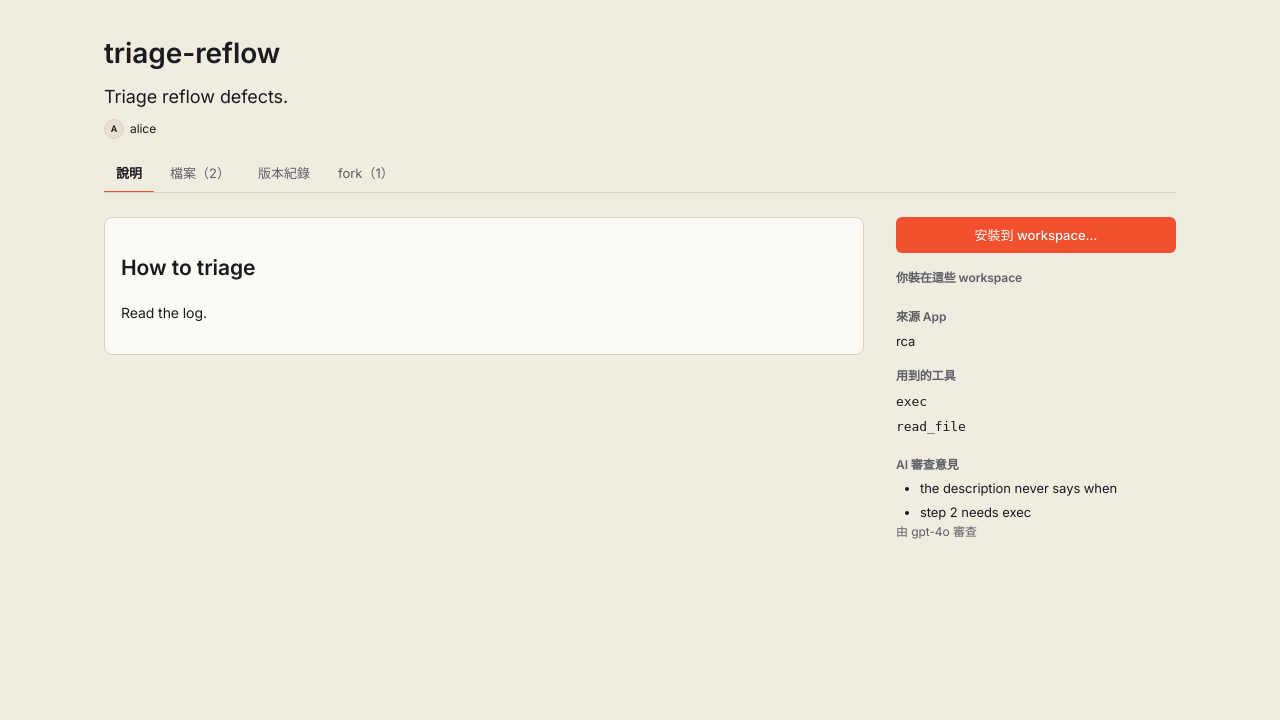
Test case: SkillHubEntryPage layout (plan-skill-hub-ux-redo D3, D5, D6, D16) › leaves one skill's notice and state behind when it opens another
This screenshot has width=1280, height=720.
Click the button "安裝到 workspace…" at (1036, 235), box [896,217,1176,253]
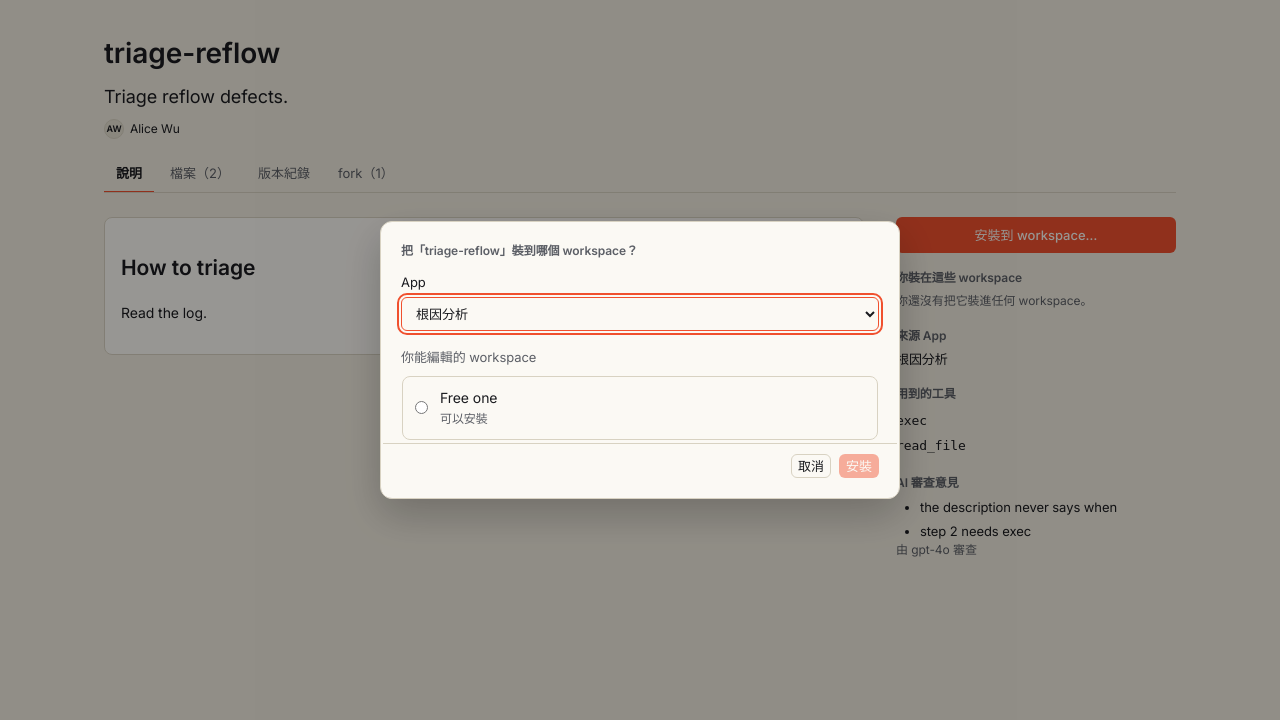
Expected: the radio button labelled "Free one 可以安裝" is enabled
Click the radio button labelled "Free one 可以安裝" at (422, 408), box [415,401,428,414]
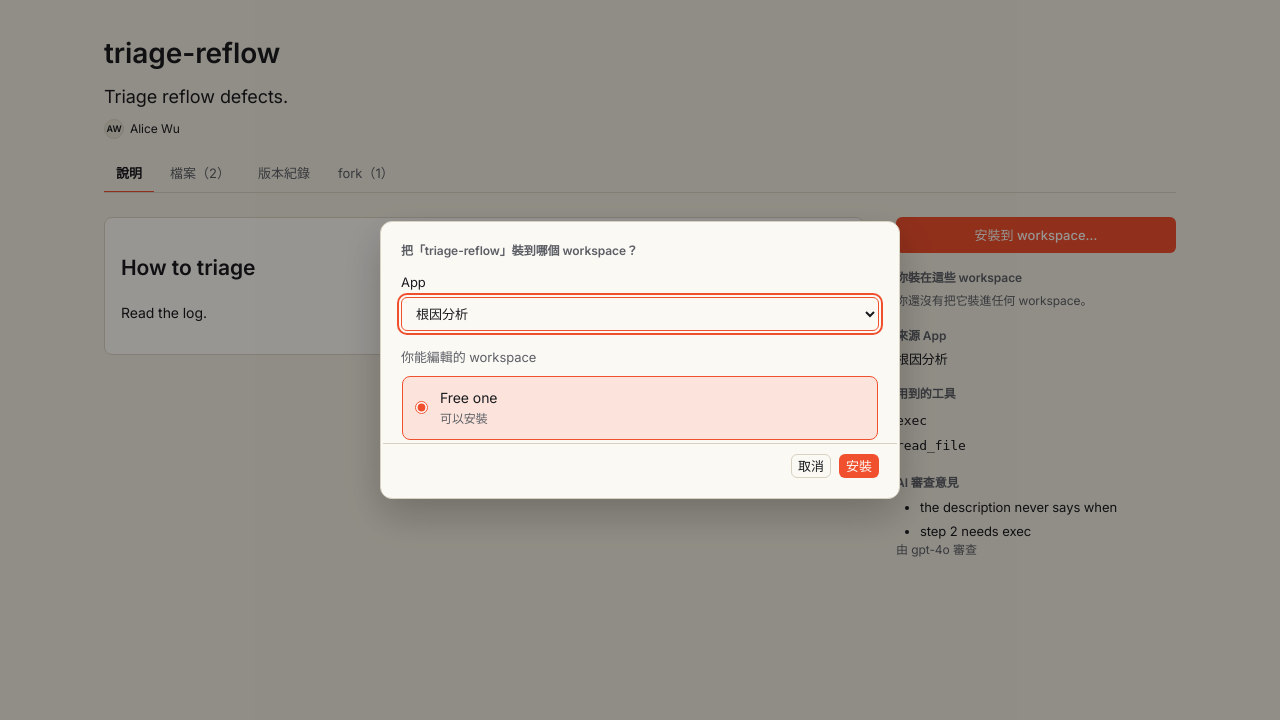
Click the button "安裝" at (859, 466), box [839,454,879,478]
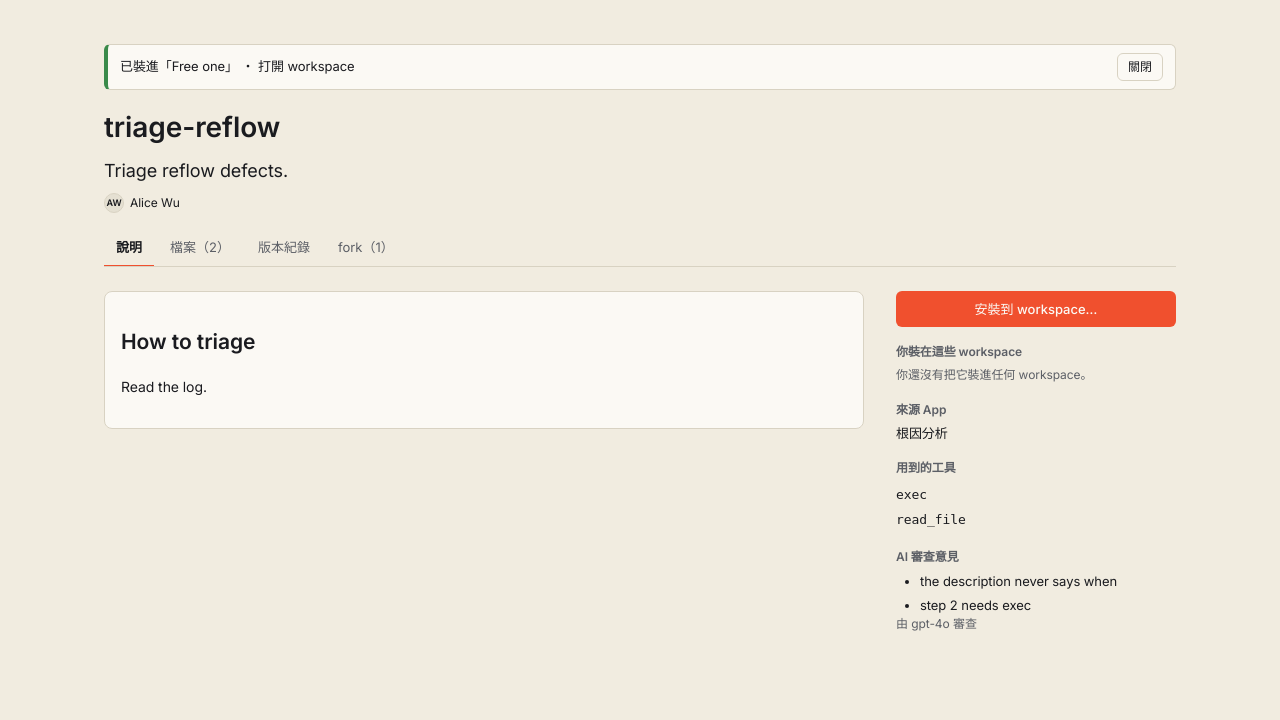
Expected: the message "已裝進「Free one」 ・ 打開 workspace 關閉" is shown, [104,44,1176,90]
Click the tab "fork（1）" at (366, 248), box [326,229,406,267]
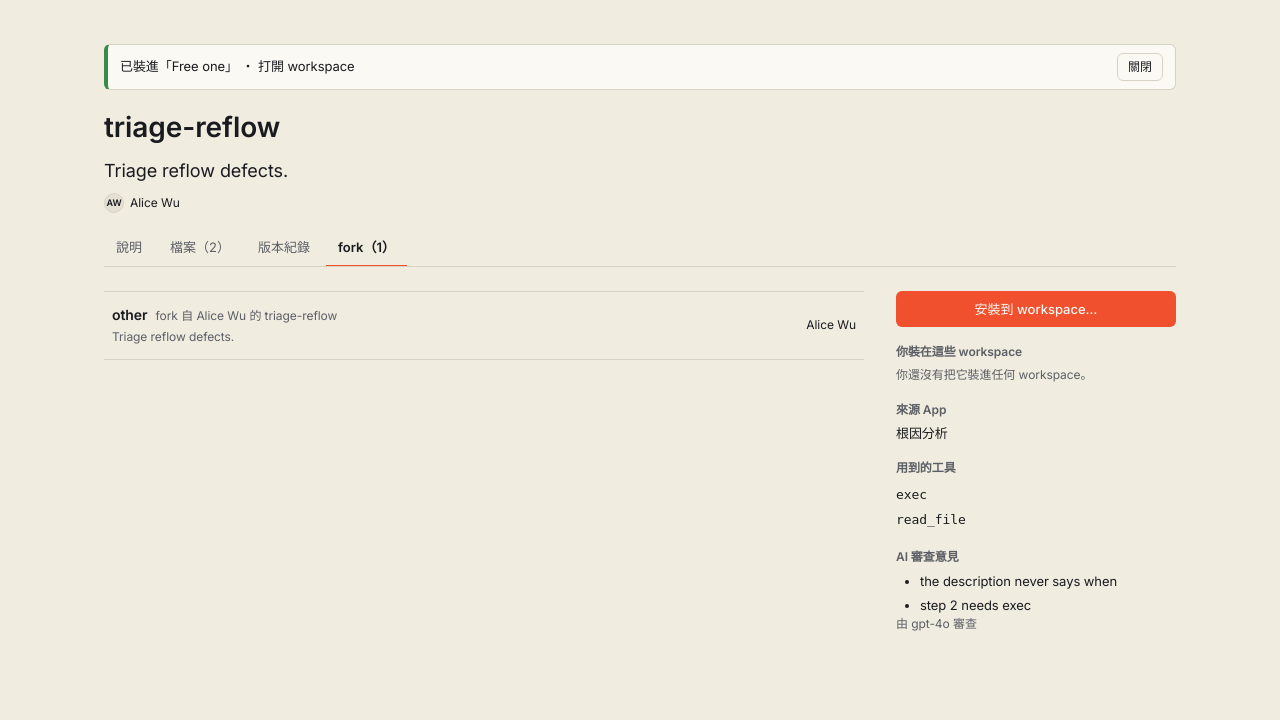
Click the link "other" at (130, 315), box [112,306,148,323]
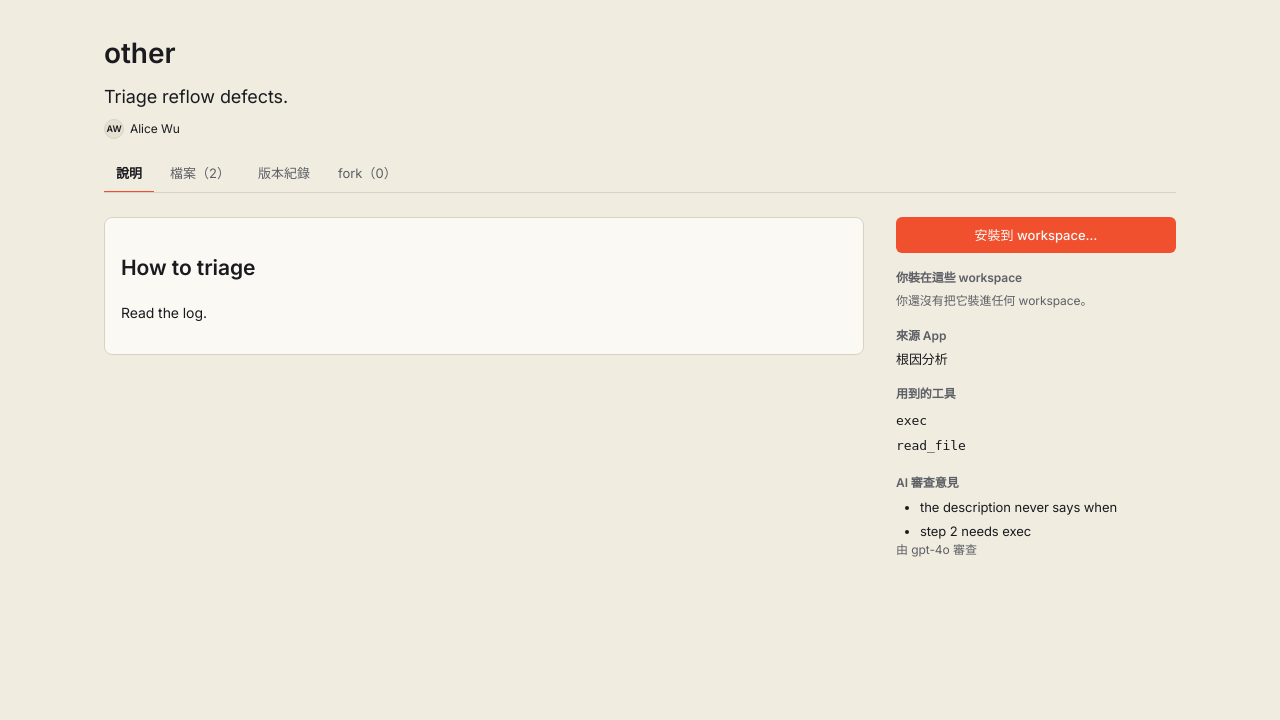
Expected: the heading "other" is shown, [104,36,176,70]
Expected: the message "已裝進「Free one」 ・ 打開 workspace 關閉" is gone
